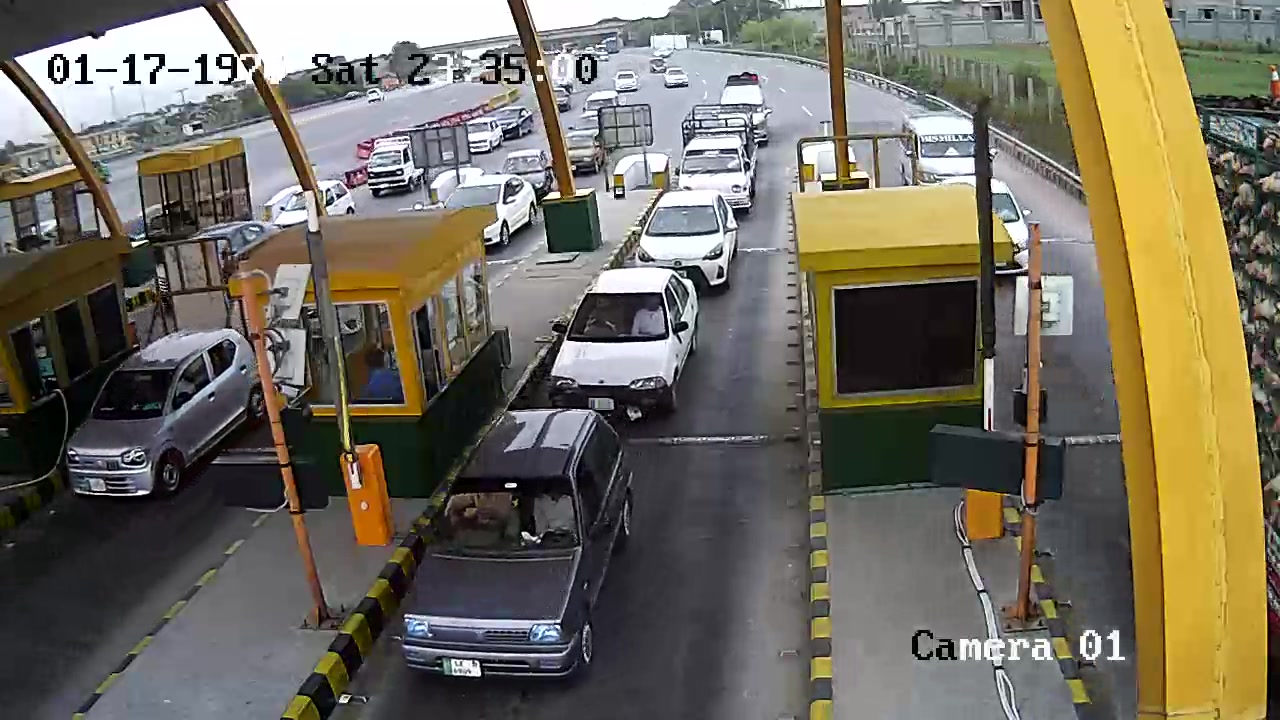F1: (389, 412, 662, 700), (532, 268, 712, 414)
